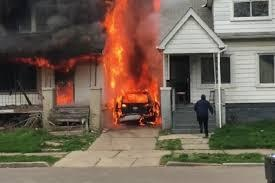fire: (100, 3, 163, 125), (18, 53, 59, 67), (55, 80, 75, 106)
